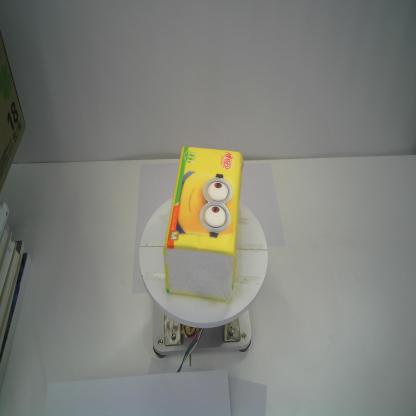Tissue: (162, 145, 245, 305)
